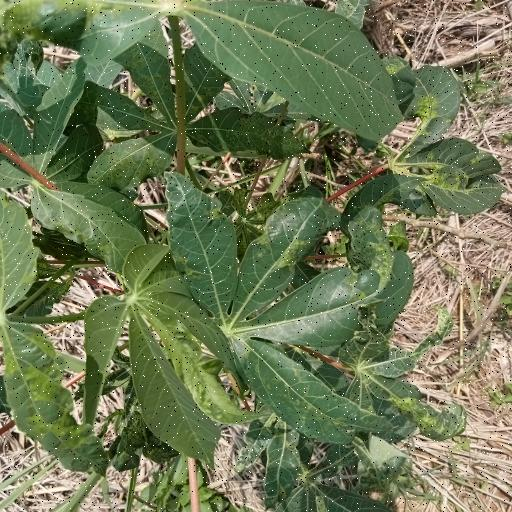Cassava_Mosaic: (167, 174, 387, 439), (1, 320, 113, 478), (391, 72, 492, 214)
